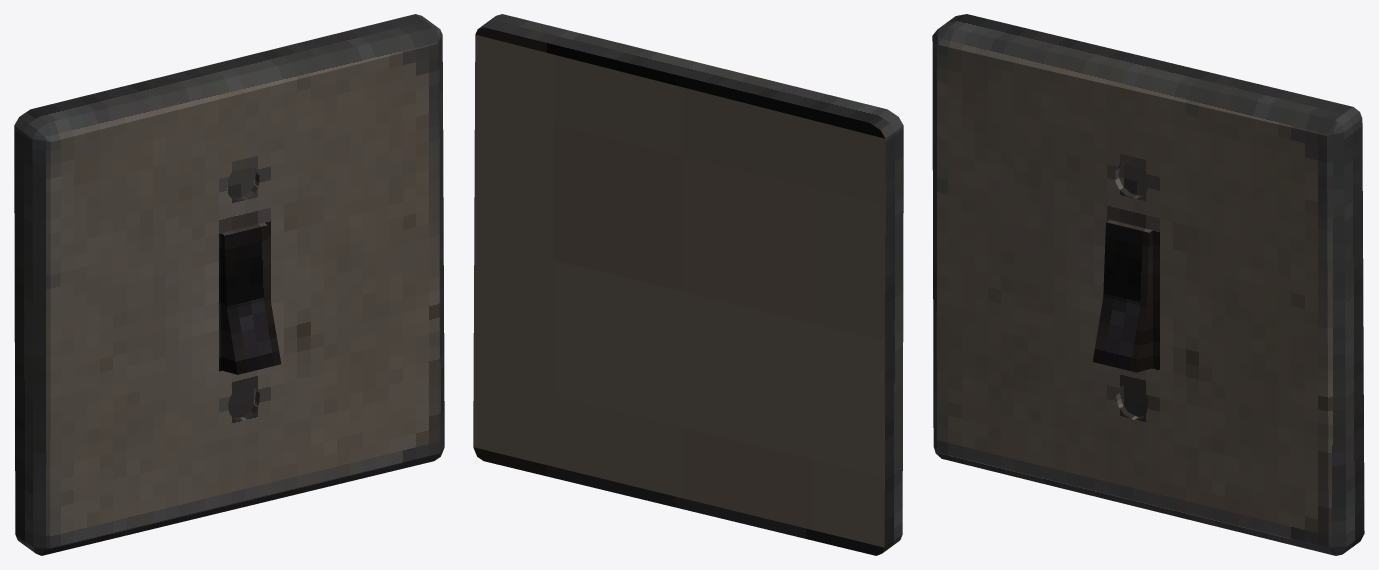
File: light_switch_1.obj
The picture shows the model from 3 angles, left to right: view 1: azimuth 30°, elevation 25°; view 2: azimuth 150°, elevation 25°; view 3: azimuth 330°, elevation 25°; orthographic projection.
Parts seen in each view (by area): view 1: light_switch_1; view 2: light_switch_1; view 3: light_switch_1.
Part boxes in pixels (box(x1,y1,x2,y2)): light_switch_1: box(14, 14, 444, 555); light_switch_1: box(473, 14, 903, 555); light_switch_1: box(932, 14, 1364, 555).
Bounding box in the file's own units: 0.1118 × 0.1125 × 0.0192.
